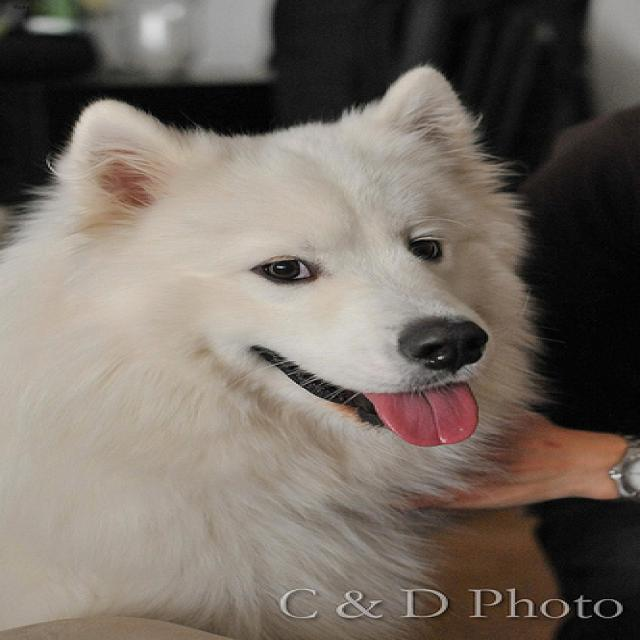dog-samoyed: (2, 55, 557, 637)
